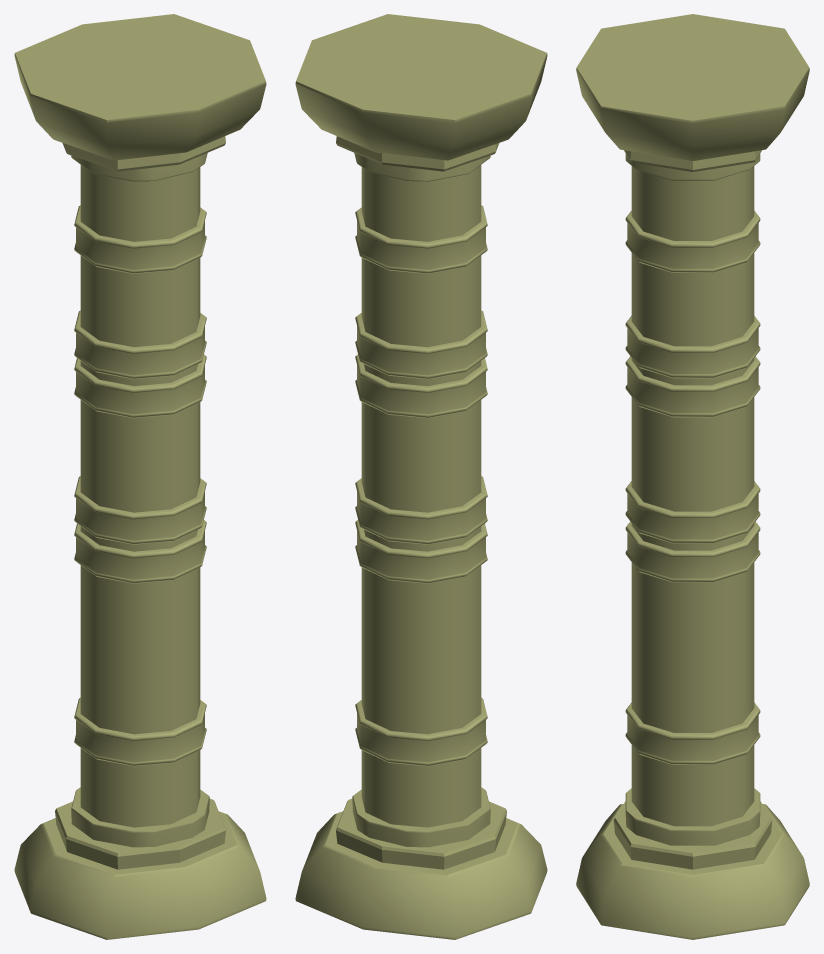
Rendered from Add3.fbx.
3 views of the same model, side by side, from view 1: azimuth 30°, elevation 25°; view 2: azimuth 150°, elevation 25°; view 3: azimuth 270°, elevation 25° (orthographic).
Parts seen in each view (by area): view 1: polySurface14; view 2: polySurface14; view 3: polySurface14.
Boxes of the visible parts, x1=… form: polySurface14: x1=14, y1=14, x2=266, y2=939; polySurface14: x1=295, y1=14, x2=547, y2=939; polySurface14: x1=576, y1=14, x2=809, y2=939.
Size of the model in its own units: 9.1 by 32.41 by 8.38.
